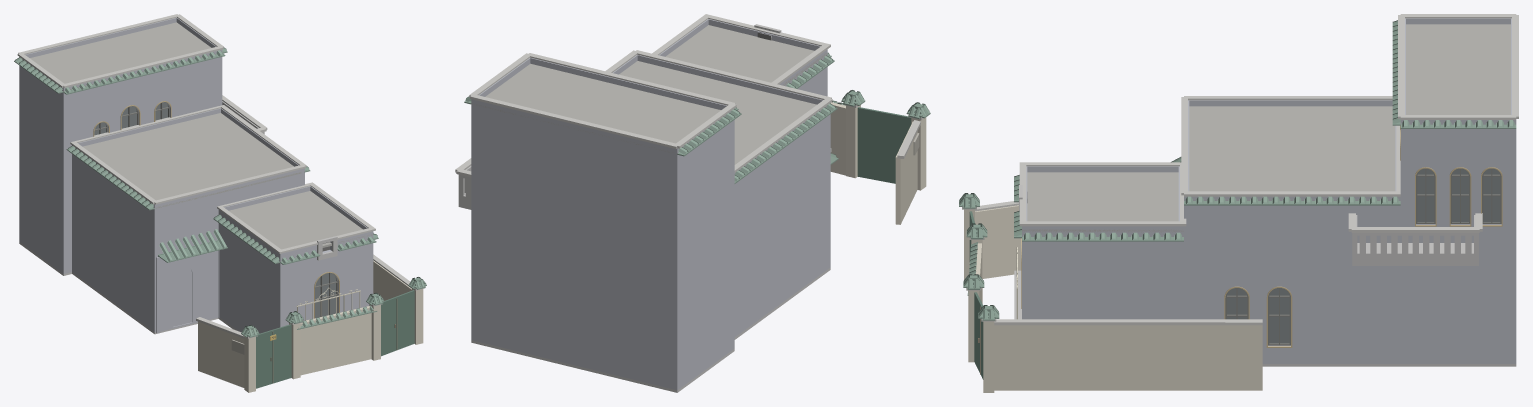
The model's file is changning-yuyuan-road-754-lod.glb.
The picture shows the model from 3 angles, left to right: view 1: azimuth 30°, elevation 25°; view 2: azimuth 150°, elevation 25°; view 3: azimuth 270°, elevation 25°; orthographic projection. The views are drawn at different scales.
Parts seen in each view (by area): view 1: 愚园路754号住宅; view 2: 愚园路754号住宅; view 3: 愚园路754号住宅.
Boxes of the visible parts, x1,y1,x2,y2 form: 愚园路754号住宅: [14, 14, 426, 392]; 愚园路754号住宅: [455, 14, 930, 392]; 愚园路754号住宅: [959, 14, 1518, 392].
Bounding box in the file's own units: 9.7 × 8.43 × 17.12.
